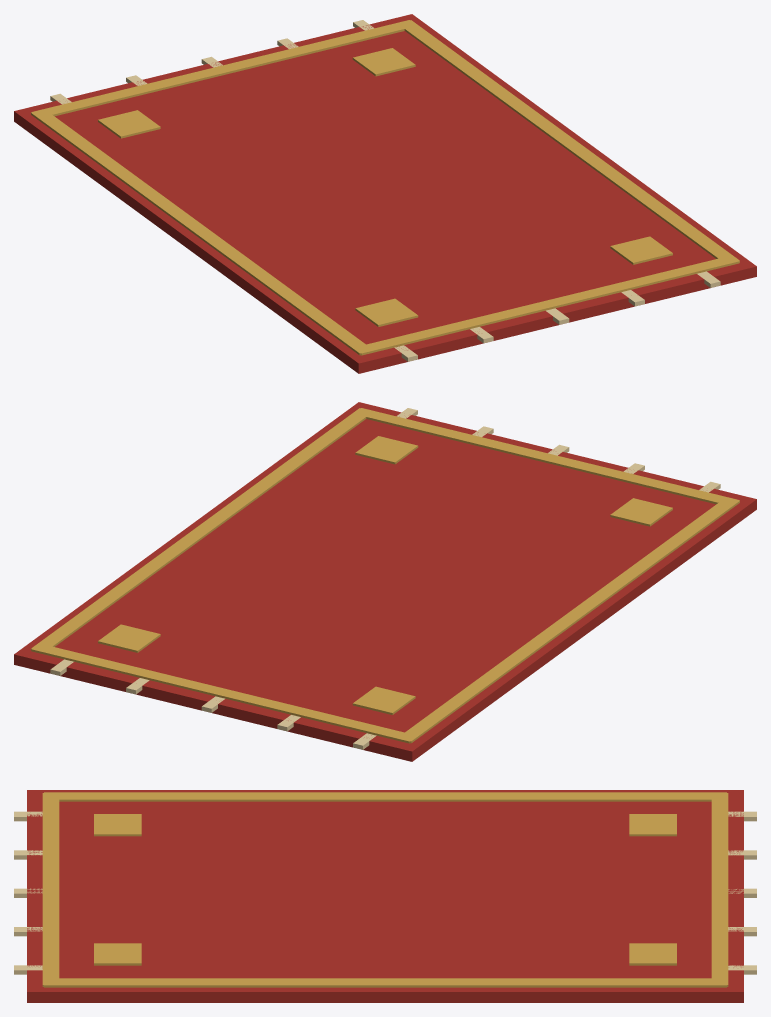
Rendered from rug.glb.
The picture shows the model from 3 angles, top to bottom: view 1: azimuth 30°, elevation 25°; view 2: azimuth 150°, elevation 25°; view 3: azimuth 270°, elevation 25°; orthographic projection. The views are drawn at different scales.
Parts seen in each view (by area): view 1: Crimson carpet, Gold long border, Gold long border.001, Gold end border, Gold end border.001, Corner embroidery.001, Corner embroidery.003, Corner embroidery, Corner embroidery.002; view 2: Crimson carpet, Gold long border, Gold long border.001, Gold end border.001, Gold end border, Corner embroidery, Corner embroidery.002, Corner embroidery.001, Corner embroidery.003; view 3: Crimson carpet, Gold long border.001, Gold long border, Gold end border.001, Gold end border, Corner embroidery, Corner embroidery.001, Corner embroidery.002, Corner embroidery.003.
Boxes of the visible parts, left/top/right/bottom form: Crimson carpet: left=14, top=14, right=756, bottom=373; Gold long border: left=31, top=109, right=372, bottom=355; Gold long border.001: left=400, top=20, right=739, bottom=263; Gold end border: left=353, top=255, right=739, bottom=355; Gold end border.001: left=31, top=20, right=417, bottom=117; Corner embroidery.001: left=98, top=110, right=160, bottom=138; Corner embroidery.003: left=352, top=48, right=415, bottom=76; Corner embroidery: left=355, top=298, right=418, bottom=326; Corner embroidery.002: left=610, top=236, right=672, bottom=264; Crimson carpet: left=14, top=402, right=756, bottom=761; Gold long border: left=398, top=497, right=739, bottom=743; Gold long border.001: left=31, top=408, right=371, bottom=651; Gold end border.001: left=31, top=643, right=416, bottom=743; Gold end border: left=353, top=408, right=739, bottom=505; Corner embroidery: left=610, top=498, right=672, bottom=526; Corner embroidery.002: left=355, top=436, right=418, bottom=464; Corner embroidery.001: left=352, top=686, right=415, bottom=714; Corner embroidery.003: left=98, top=624, right=160, bottom=652; Crimson carpet: left=27, top=790, right=743, bottom=1002; Gold long border.001: left=44, top=978, right=726, bottom=987; Gold long border: left=44, top=792, right=726, bottom=801; Gold end border.001: left=711, top=793, right=728, bottom=986; Gold end border: left=42, top=793, right=59, bottom=986; Corner embroidery: left=94, top=814, right=141, bottom=836; Corner embroidery.001: left=629, top=814, right=676, bottom=836; Corner embroidery.002: left=94, top=943, right=141, bottom=965; Corner embroidery.003: left=629, top=943, right=676, bottom=965.
Bounding box in the file's own units: 1 × 0.0305 × 1.56.
